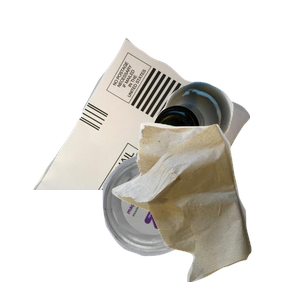glass: (151, 79, 300, 221)
paper: (31, 35, 271, 215)
plastic: (100, 152, 293, 300)
trash: (109, 120, 300, 300)
